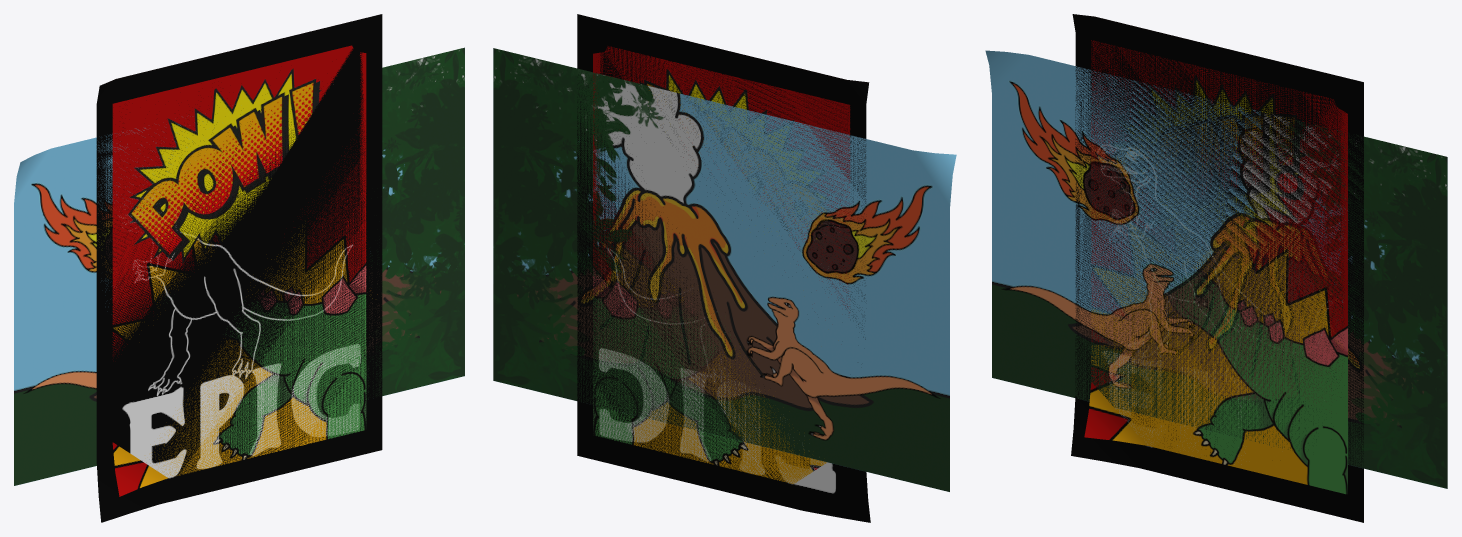
The model's file is PosterALL.fbx.
3 renders of one model, left to right at view 1: azimuth 30°, elevation 25°; view 2: azimuth 150°, elevation 25°; view 3: azimuth 330°, elevation 25°, orthographic.
Visible parts, largest first — view 1: Poster2, Poster1, Poster3; view 2: Poster3, Poster2, Poster1; view 3: Poster3, Poster2, Poster1.
Part boxes in pixels (x1=…): Poster2: x1=96, y1=14, x2=382, y2=522; Poster1: x1=112, y1=45, x2=366, y2=496; Poster3: x1=14, y1=47, x2=464, y2=485; Poster3: x1=493, y1=48, x2=956, y2=491; Poster2: x1=577, y1=14, x2=870, y2=522; Poster1: x1=593, y1=46, x2=850, y2=484; Poster3: x1=985, y1=50, x2=1447, y2=488; Poster2: x1=1071, y1=14, x2=1363, y2=522; Poster1: x1=1084, y1=40, x2=1347, y2=494.
Bounding box in the file's own units: 87.78 × 81.11 × 2.36.
Materials: 3 (3 with a texture image).
